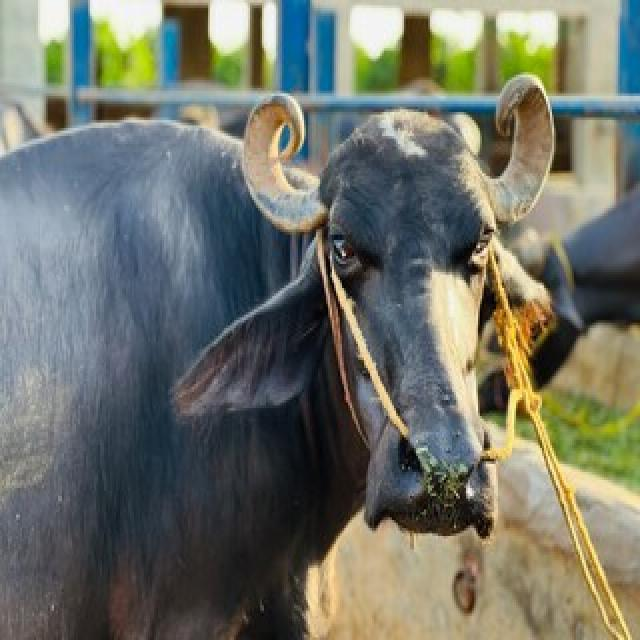Buffalo: (0, 70, 558, 638)
